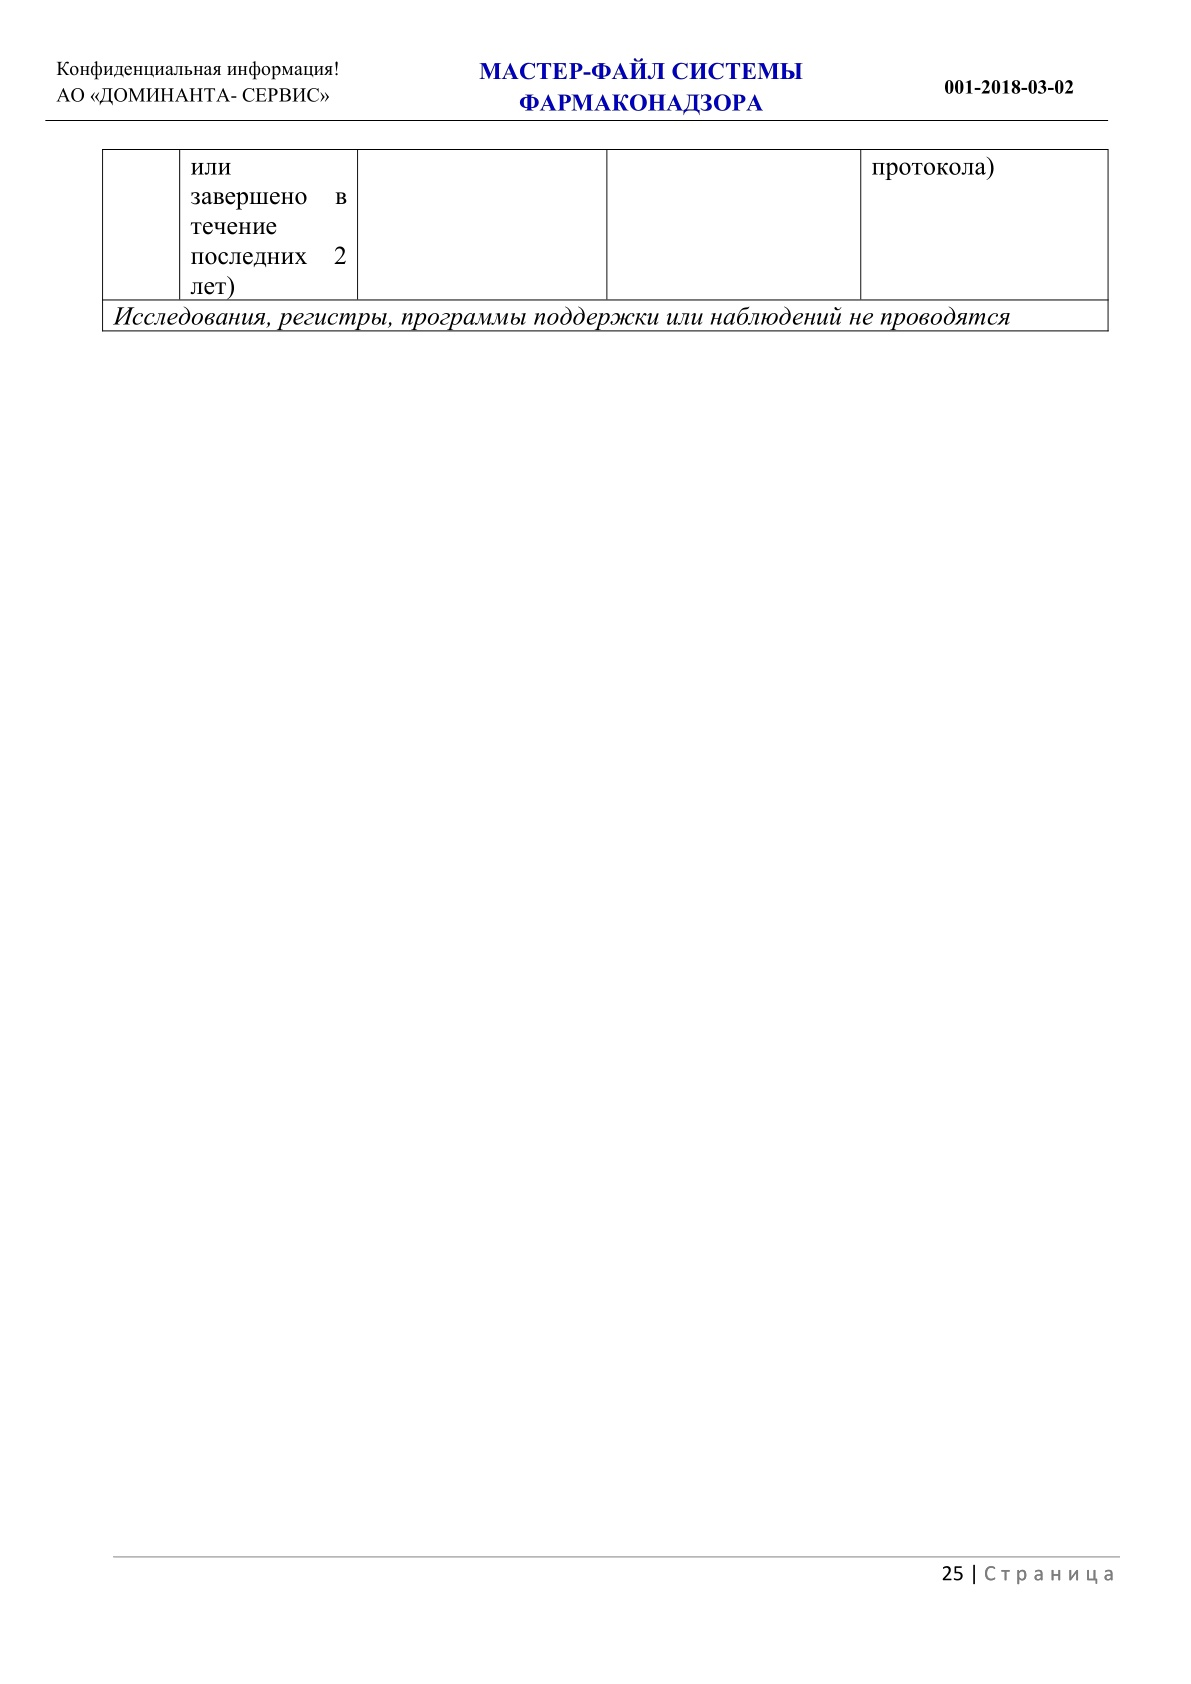merged_cells: (101, 148, 1110, 332)
